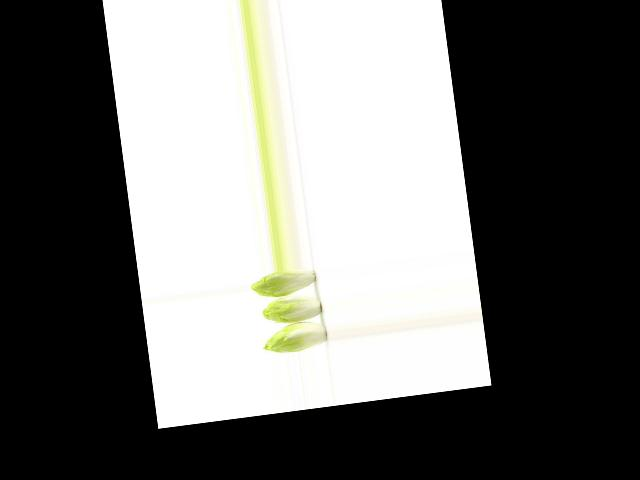lettuce: (260, 319, 330, 356)
